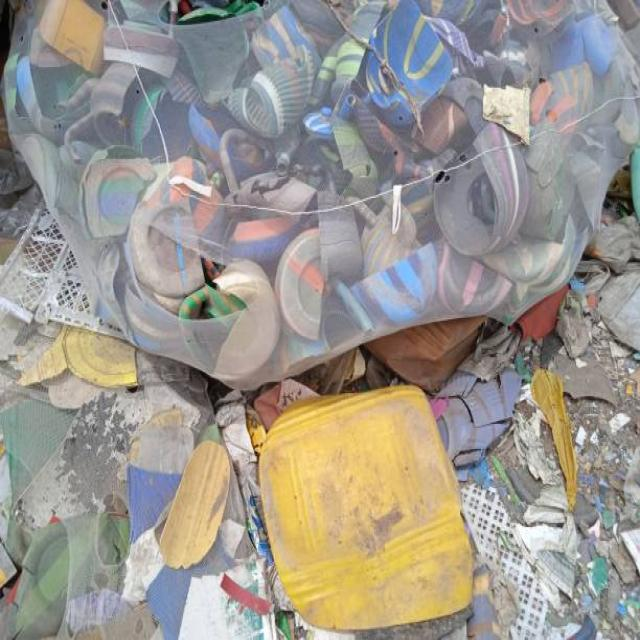plastic: (254, 402, 490, 624)
